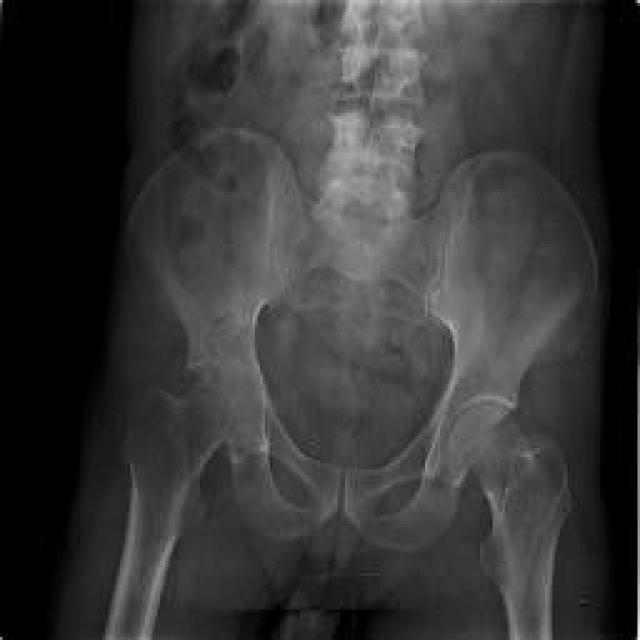normal: (109, 5, 592, 636)
